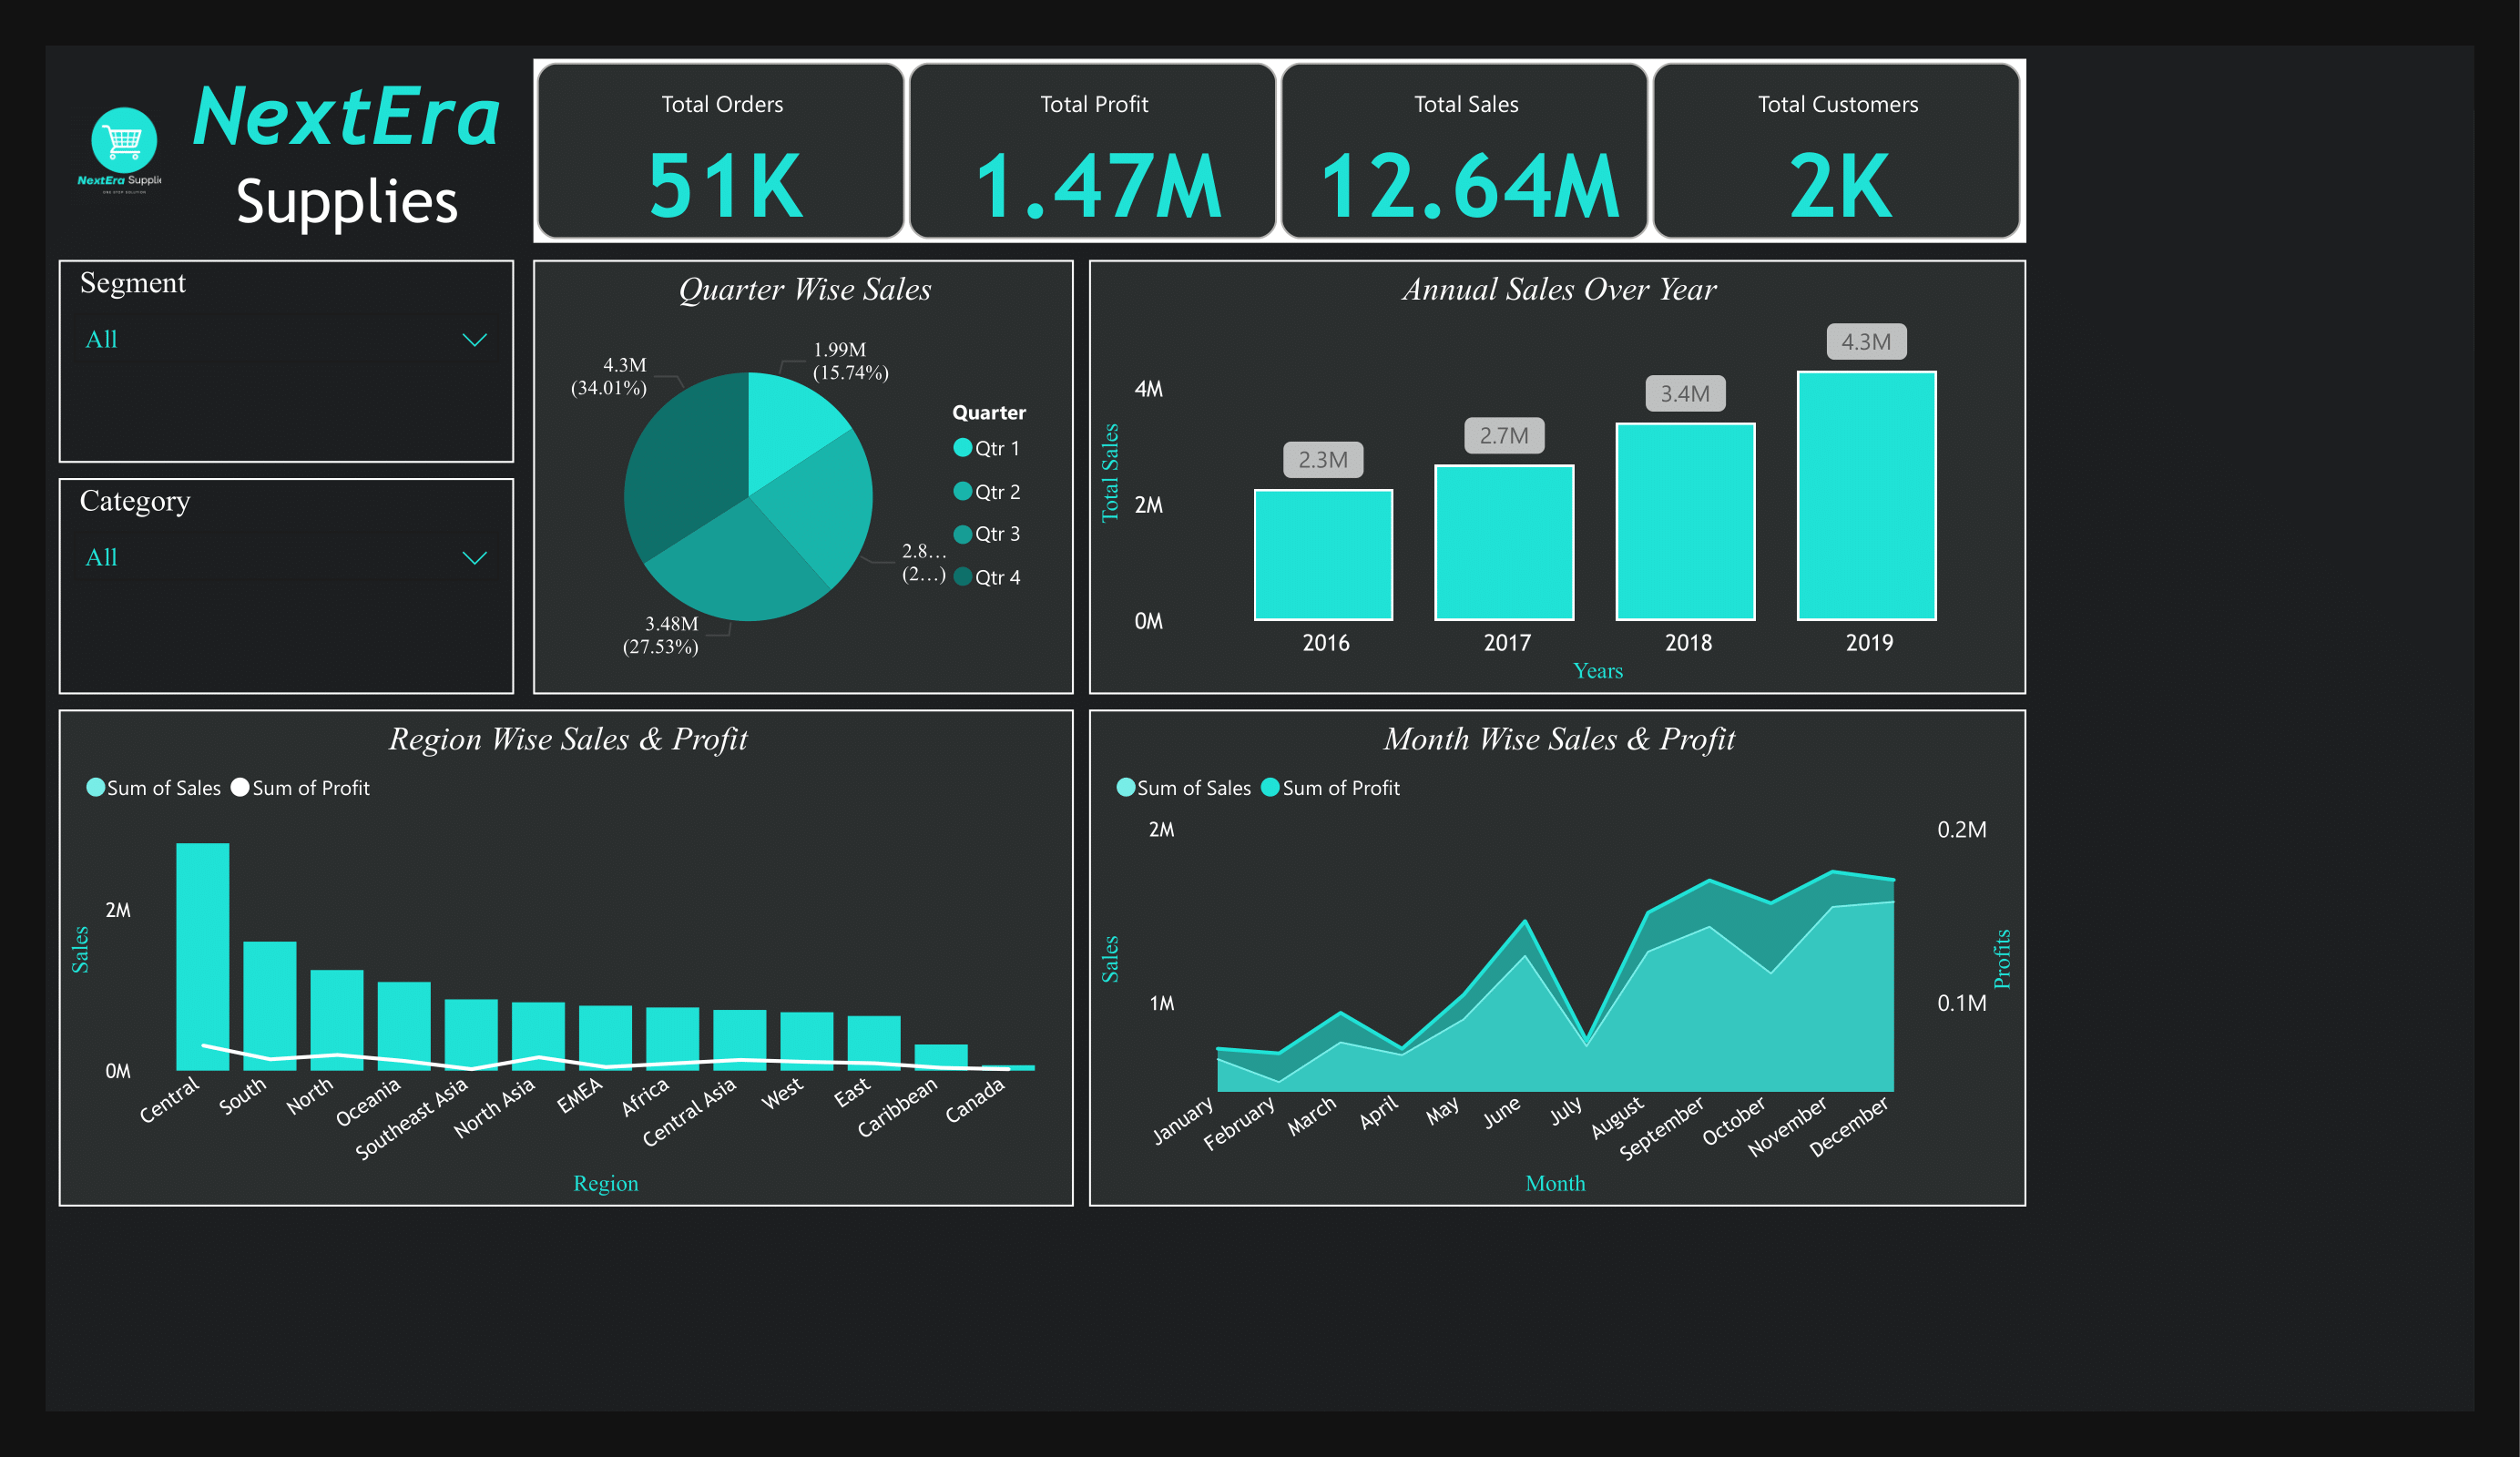

The dashboard page shown, as its layout file describes it:
{"tool":"powerbi","page":{"name":"Page 2","canvas":[1280,720],"ordinal":1},"visuals":[{"type":"cardVisual","fields":{"Data":["Measure Table.Total Orders","Measure Table.Total Profit","Measure Table.Total Sales","Measure Table.Total Customers"]},"box":[257,7,1015.1,96.5],"z":0},{"type":"lineStackedColumnComboChart","title":"Annual Sales Over Year","fields":{"Category":["Orders.Order Date.Variation.Date Hierarchy.Year"],"Y":["Sum(Orders.Sales)"]},"box":[650,112.8,622.1,289.5],"z":1000},{"type":"image","box":[7,22,68,67],"z":2000},{"type":"textbox","box":[61,7,196,97],"z":3000},{"type":"areaChart","title":"Month Wise Sales & Profit","fields":{"Category":["Orders.Order Date.Variation.Date Hierarchy.Month"],"Y":["Sum(Orders.Sales)"],"Y2":["Sum(Orders.Profit)"]},"box":[7,411.6,632.6,298.8],"z":4000},{"type":"lineStackedColumnComboChart","title":"Region Wise Sales & Profit","fields":{"Category":["Orders.Region"],"Y2":["Sum(Orders.Profit)"],"Y":["Sum(Orders.Sales)"]},"box":[650,411.6,622.1,298.8],"z":5000},{"type":"pieChart","title":"Quarter Wise Sales","fields":{"Category":["Orders.Order Date.Variation.Date Hierarchy.Quarter"],"Y":["Sum(Orders.Sales)"]},"box":[257,112.8,382.6,289.5],"z":6000},{"type":"slicer","fields":{"Values":["Orders.Segment"]},"box":[7.2,235.2,239.5,76.5],"z":7000},{"type":"slicer","fields":{"Values":["Orders.Category"]},"box":[8.7,324.6,239.5,77.9],"z":8000},{"type":"actionButton","box":[8.7,131.3,240.9,40.4],"z":9000},{"type":"actionButton","box":[138.5,181.8,108.2,40.4],"z":10000},{"type":"actionButton","box":[8.7,181.8,118.3,40.4],"z":11000}]}

Visuals, with their boxes on the page's 1280x720 design canvas (x1, y1, x2, y2). These are canvas units, not pixel positions in the 2520x1457 screenshot, which may show the page scaled, cropped or inside an application window:
cardVisual - Measure Table.Total Orders x Measure Table.Total Profit: x1=257 y1=7 x2=1272 y2=104
"Annual Sales Over Year" lineStackedColumnComboChart: x1=650 y1=113 x2=1272 y2=402
image: x1=7 y1=22 x2=75 y2=89
textbox: x1=61 y1=7 x2=257 y2=104
"Month Wise Sales & Profit" areaChart: x1=7 y1=412 x2=640 y2=710
"Region Wise Sales & Profit" lineStackedColumnComboChart: x1=650 y1=412 x2=1272 y2=710
"Quarter Wise Sales" pieChart: x1=257 y1=113 x2=640 y2=402
slicer - Orders.Segment: x1=7 y1=235 x2=247 y2=312
slicer - Orders.Category: x1=9 y1=325 x2=248 y2=402
actionButton: x1=9 y1=131 x2=250 y2=172
actionButton: x1=138 y1=182 x2=247 y2=222
actionButton: x1=9 y1=182 x2=127 y2=222
